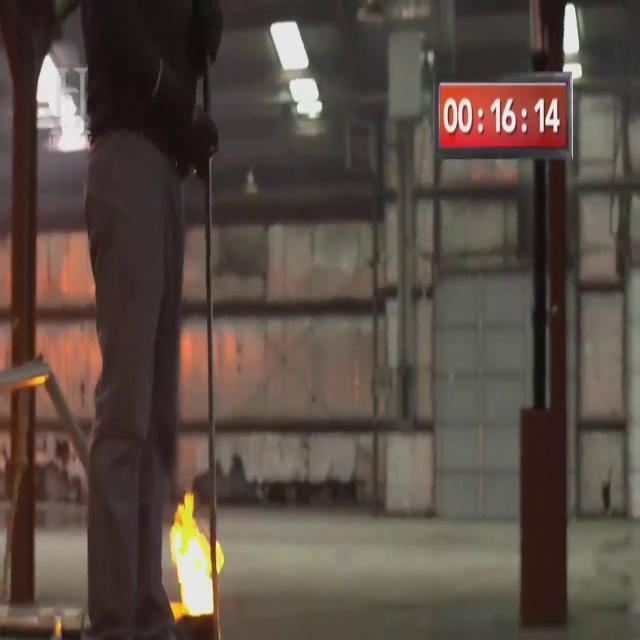Fire: (168, 490, 226, 621), (50, 608, 66, 640)
